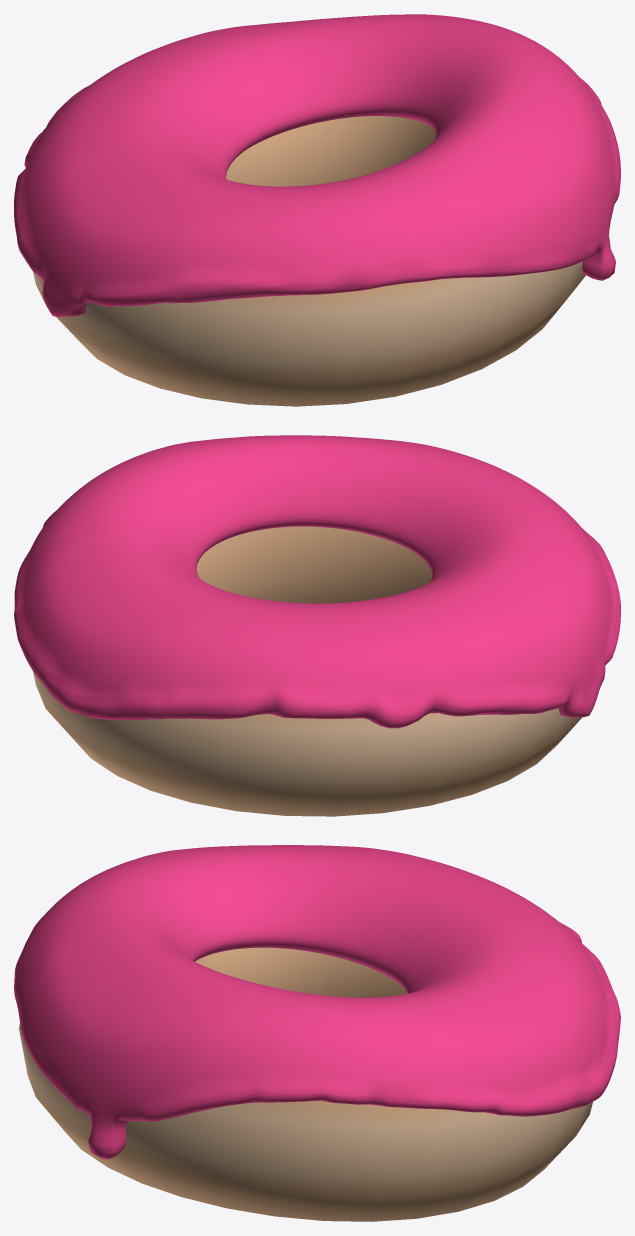
File: DonutPinkWhite.glb
3 views of the same model, one above another, from view 1: azimuth 30°, elevation 25°; view 2: azimuth 150°, elevation 25°; view 3: azimuth 270°, elevation 25° (orthographic). The views are drawn at different scales.
Visible parts, largest first — view 1: icing, donut; view 2: icing, donut; view 3: icing, donut.
Boxes of the visible parts, x1,y1,x2,y2 form: icing: (14,14,620,317); donut: (33,116,585,406); icing: (14,435,620,728); donut: (33,526,581,816); icing: (14,845,620,1159); donut: (19,947,592,1221).
Size of the model in its own units: 0.1446 by 0.0599 by 0.1402.
Materials: 2 (1 with a texture image).
